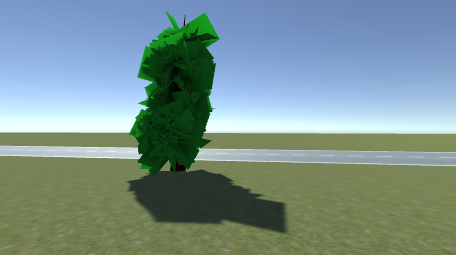tree: (129, 12, 220, 175)
